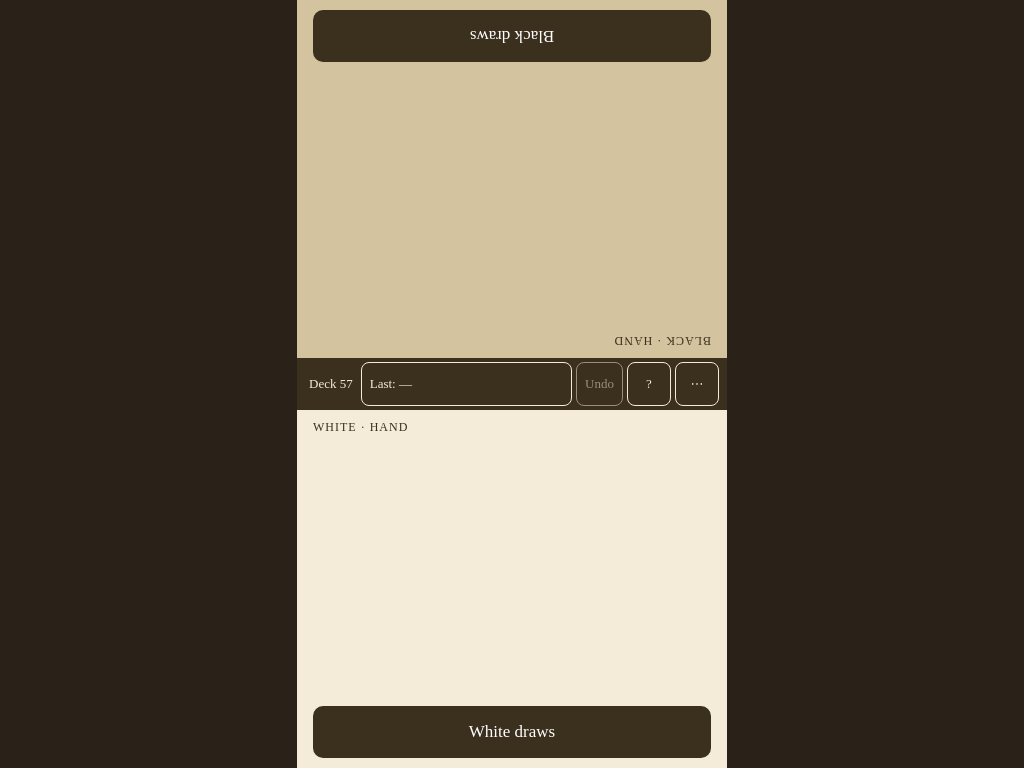
Scenario: the rules screen opens the form with Game rules
Click the button "?": (649,384) [627, 362, 671, 406]
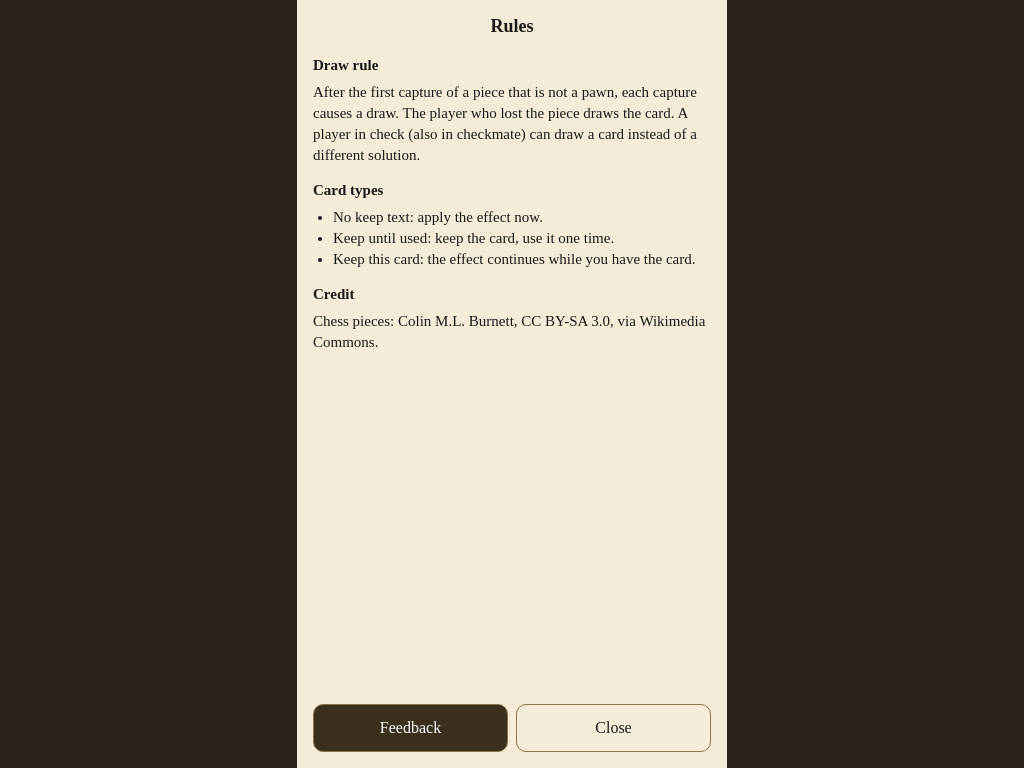
Click the button "Feedback": (410,728) [313, 704, 508, 752]
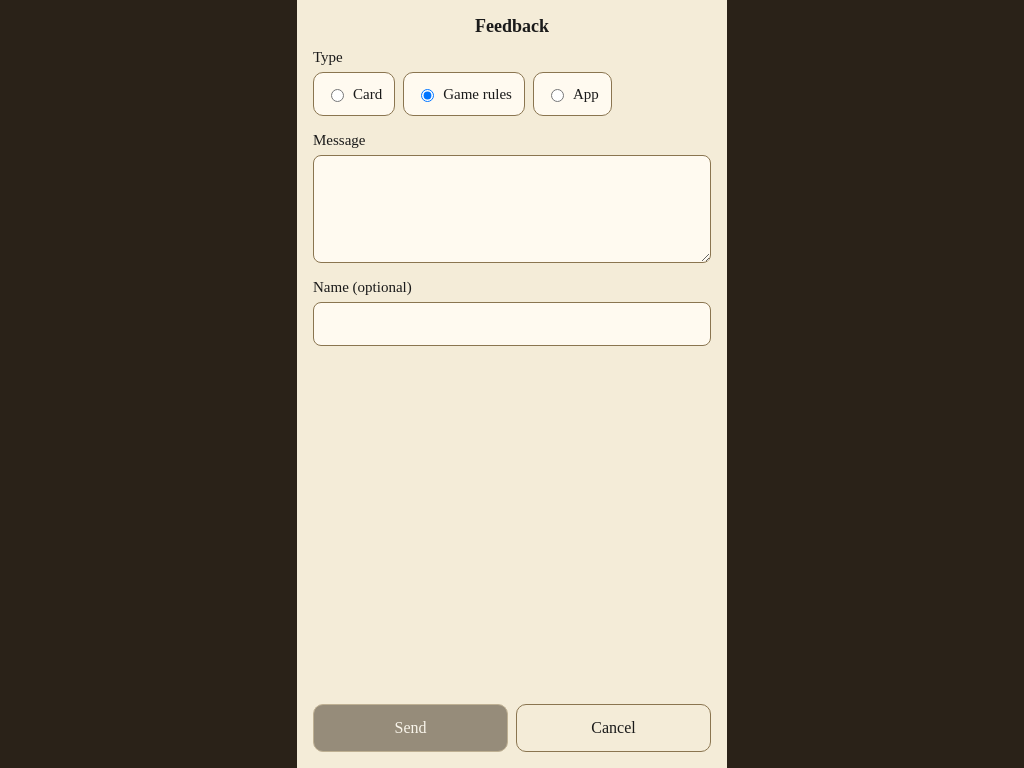
Check: the radio button labelled "Game rules" is checked, box [421, 89, 434, 102]
